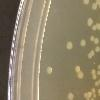white: (64, 39, 75, 52), (78, 37, 88, 49), (75, 68, 85, 80), (45, 64, 54, 77), (86, 15, 93, 28), (82, 0, 92, 6), (95, 20, 100, 32), (91, 2, 97, 12), (74, 64, 81, 72), (94, 37, 100, 45), (67, 92, 73, 100), (91, 24, 96, 33), (91, 74, 98, 80), (82, 92, 88, 99), (94, 81, 100, 88), (92, 93, 98, 100), (95, 45, 100, 53), (87, 52, 92, 60), (90, 50, 95, 58), (96, 0, 100, 9), (90, 35, 94, 43), (88, 90, 92, 98), (91, 69, 96, 75), (90, 87, 95, 93), (96, 69, 100, 76), (95, 64, 100, 69), (98, 90, 100, 99)
